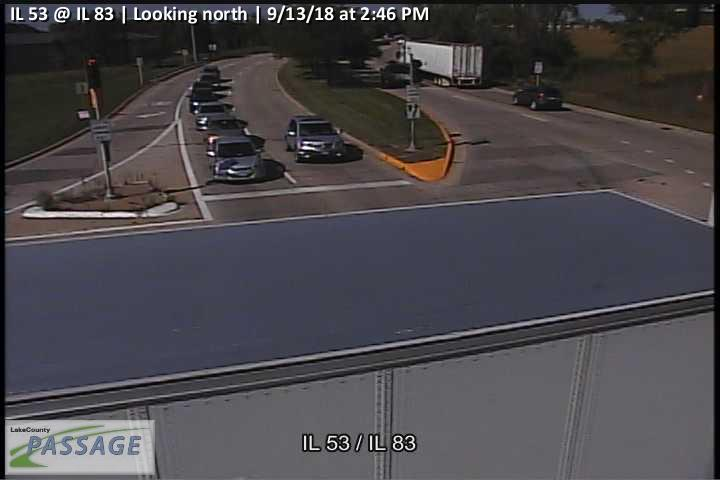SUV: (206, 136, 267, 184), (286, 116, 347, 163), (512, 85, 563, 110), (380, 61, 412, 88), (200, 65, 220, 80)
Sedan: (207, 115, 248, 142), (195, 102, 233, 130), (188, 89, 214, 114), (193, 81, 213, 98)
Truck: (395, 39, 483, 90)
